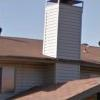Chimney: (38, 2, 85, 67)
